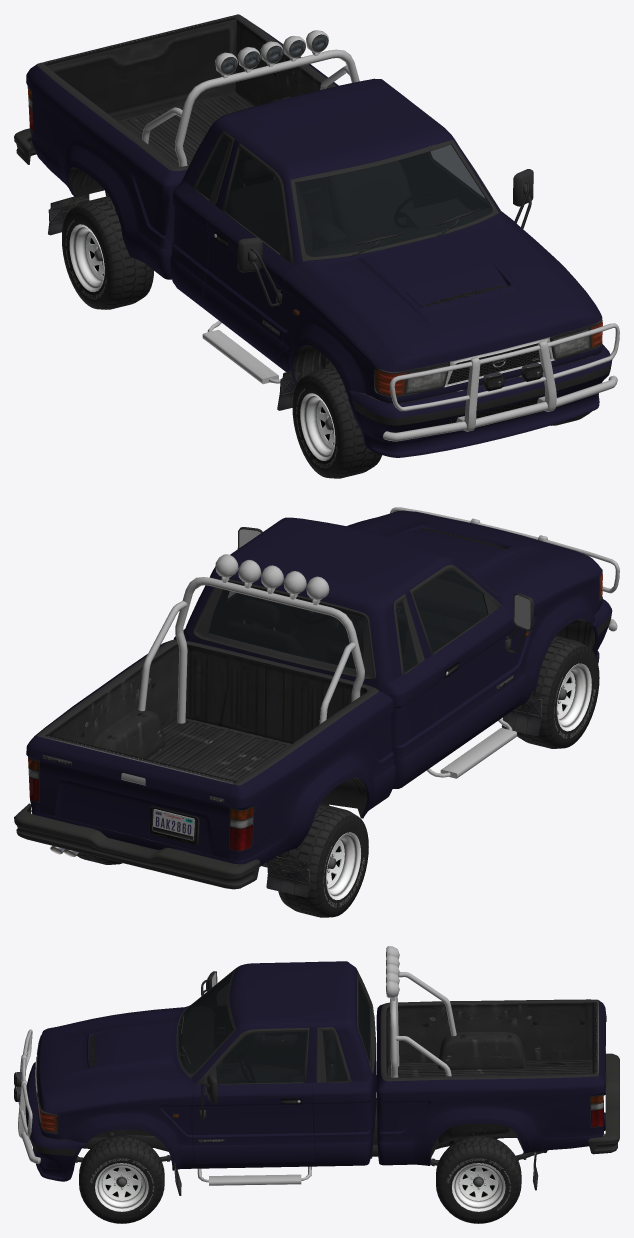
The model's file is lightbody.glb.
3 renders of one model, top to bottom at view 1: azimuth 30°, elevation 25°; view 2: azimuth 150°, elevation 25°; view 3: azimuth 270°, elevation 25°, orthographic. The views are drawn at different scales.
Parts seen in each view (by area): view 1: krmlgtbdy85_Body_krmlgtbdy85_Bodymat_0, krmlgtbdy85_Hood_krmlgtbdy85_Bodymat_0, krmlgtbdy85_Bottom_UCB_BOTTOM_0, krmlgtbdy85_Interior_UCB_Interiors_1_0, krmlgtbdy85_Windshield_UCB_Lights_and_Glass_Transperent_0, krmlgtbdy85_Trunk_door_inner_UCB_BOTTOM_0, krmlgtbdy85_Bumper_Front_krmlgtbdy85_Bodymat_0, wheel_RR, krmlgtbdy85_Bullbar_UCB_BOTTOM_0, wheel_FR, krmlgtbdy85_Extra_A_UCB_BOTTOM_0, krmlgtbdy85_Lifted_Trim_UCB_BOTTOM_0 (+5 smaller); view 2: krmlgtbdy85_Body_krmlgtbdy85_Bodymat_0, krmlgtbdy85_Bottom_UCB_BOTTOM_0, krmlgtbdy85_Trunkdoor_krmlgtbdy85_Bodymat_0, krmlgtbdy85_Interior_UCB_Interiors_1_0, krmlgtbdy85_Extra_A_UCB_BOTTOM_0, krmlgtbdy85_Glass_Rear_UCB_Lights_and_Glass_Transperent_0, krmlgtbdy85_Hood_krmlgtbdy85_Bodymat_0, wheel_RR, krmlgtbdy85_Bumper_Rear_UCB_BOTTOM_0, wheel_FR, krmlgtbdy85_Lifted_Trim_UCB_BOTTOM_0, krmlgtbdy85_Glass_Passanger_UCB_Lights_and_Glass_Transperent (+8 smaller); view 3: krmlgtbdy85_Body_krmlgtbdy85_Bodymat_0, krmlgtbdy85_Bottom_UCB_BOTTOM_0, krmlgtbdy85_Hood_krmlgtbdy85_Bodymat_0, krmlgtbdy85_Interior_UCB_Interiors_1_0, wheel_RL, wheel_FL, krmlgtbdy85_Glass_Driver_UCB_Lights_and_Glass_Transperent_0, krmlgtbdy85_Windshield_UCB_Lights_and_Glass_Transperent_0, krmlgtbdy85_Extra_A_UCB_BOTTOM_0, krmlgtbdy85_Bumper_Front_krmlgtbdy85_Bodymat_0, krmlgtbdy85_Lifted_Trim_UCB_BOTTOM_0, krmlgtbdy85_Bumper_Rear_UCB_BOTTOM_0 (+6 smaller).
Part boxes in pixels (x1=…): krmlgtbdy85_Body_krmlgtbdy85_Bodymat_0: x1=26, y1=23, x2=602, y2=403; krmlgtbdy85_Hood_krmlgtbdy85_Bodymat_0: x1=325, y1=223, x2=579, y2=367; krmlgtbdy85_Bottom_UCB_BOTTOM_0: x1=27, y1=14, x2=602, y2=404; krmlgtbdy85_Interior_UCB_Interiors_1_0: x1=197, y1=153, x2=491, y2=256; krmlgtbdy85_Windshield_UCB_Lights_and_Glass_Transperent_0: x1=295, y1=144, x2=492, y2=256; krmlgtbdy85_Trunk_door_inner_UCB_BOTTOM_0: x1=42, y1=16, x2=236, y2=120; krmlgtbdy85_Bumper_Front_krmlgtbdy85_Bodymat_0: x1=345, y1=344, x2=612, y2=457; wheel_RR: x1=62, y1=196, x2=153, y2=309; krmlgtbdy85_Bullbar_UCB_BOTTOM_0: x1=383, y1=323, x2=619, y2=441; wheel_FR: x1=292, y1=366, x2=382, y2=478; krmlgtbdy85_Extra_A_UCB_BOTTOM_0: x1=142, y1=30, x2=359, y2=166; krmlgtbdy85_Lifted_Trim_UCB_BOTTOM_0: x1=48, y1=169, x2=533, y2=410; krmlgtbdy85_Body_krmlgtbdy85_Bodymat_0: x1=26, y1=510, x2=602, y2=865; krmlgtbdy85_Bottom_UCB_BOTTOM_0: x1=28, y1=558, x2=602, y2=856; krmlgtbdy85_Trunkdoor_krmlgtbdy85_Bodymat_0: x1=38, y1=737, x2=232, y2=859; krmlgtbdy85_Interior_UCB_Interiors_1_0: x1=210, y1=575, x2=486, y2=671; krmlgtbdy85_Extra_A_UCB_BOTTOM_0: x1=138, y1=554, x2=364, y2=724; krmlgtbdy85_Glass_Rear_UCB_Lights_and_Glass_Transperent_0: x1=209, y1=589, x2=363, y2=669; krmlgtbdy85_Hood_krmlgtbdy85_Bodymat_0: x1=360, y1=511, x2=576, y2=588; wheel_RR: x1=278, y1=804, x2=368, y2=917; krmlgtbdy85_Bumper_Rear_UCB_BOTTOM_0: x1=14, y1=803, x2=260, y2=889; wheel_FR: x1=516, y1=636, x2=599, y2=748; krmlgtbdy85_Lifted_Trim_UCB_BOTTOM_0: x1=237, y1=527, x2=542, y2=897; krmlgtbdy85_Glass_Passanger_UCB_Lights_and_Glass_Transperent: x1=413, y1=570, x2=487, y2=652; krmlgtbdy85_Body_krmlgtbdy85_Bodymat_0: x1=37, y1=961, x2=605, y2=1170; krmlgtbdy85_Bottom_UCB_BOTTOM_0: x1=35, y1=968, x2=605, y2=1163; krmlgtbdy85_Hood_krmlgtbdy85_Bodymat_0: x1=36, y1=1011, x2=179, y2=1101; krmlgtbdy85_Interior_UCB_Interiors_1_0: x1=180, y1=975, x2=368, y2=1083; wheel_RL: x1=436, y1=1135, x2=521, y2=1223; wheel_FL: x1=79, y1=1135, x2=164, y2=1223; krmlgtbdy85_Glass_Driver_UCB_Lights_and_Glass_Transperent_0: x1=216, y1=1031, x2=306, y2=1083; krmlgtbdy85_Windshield_UCB_Lights_and_Glass_Transperent_0: x1=179, y1=971, x2=233, y2=1073; krmlgtbdy85_Extra_A_UCB_BOTTOM_0: x1=386, y1=946, x2=456, y2=1077; krmlgtbdy85_Bumper_Front_krmlgtbdy85_Bodymat_0: x1=25, y1=1062, x2=85, y2=1181; krmlgtbdy85_Lifted_Trim_UCB_BOTTOM_0: x1=173, y1=971, x2=538, y2=1195; krmlgtbdy85_Bumper_Rear_UCB_BOTTOM_0: x1=588, y1=1053, x2=619, y2=1154.
Bounding box in the file's own units: 2.04 × 1.83 × 4.7.
8 materials, 7 textured.
